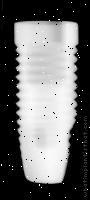Nobel Biocare: (14, 21, 79, 184)
